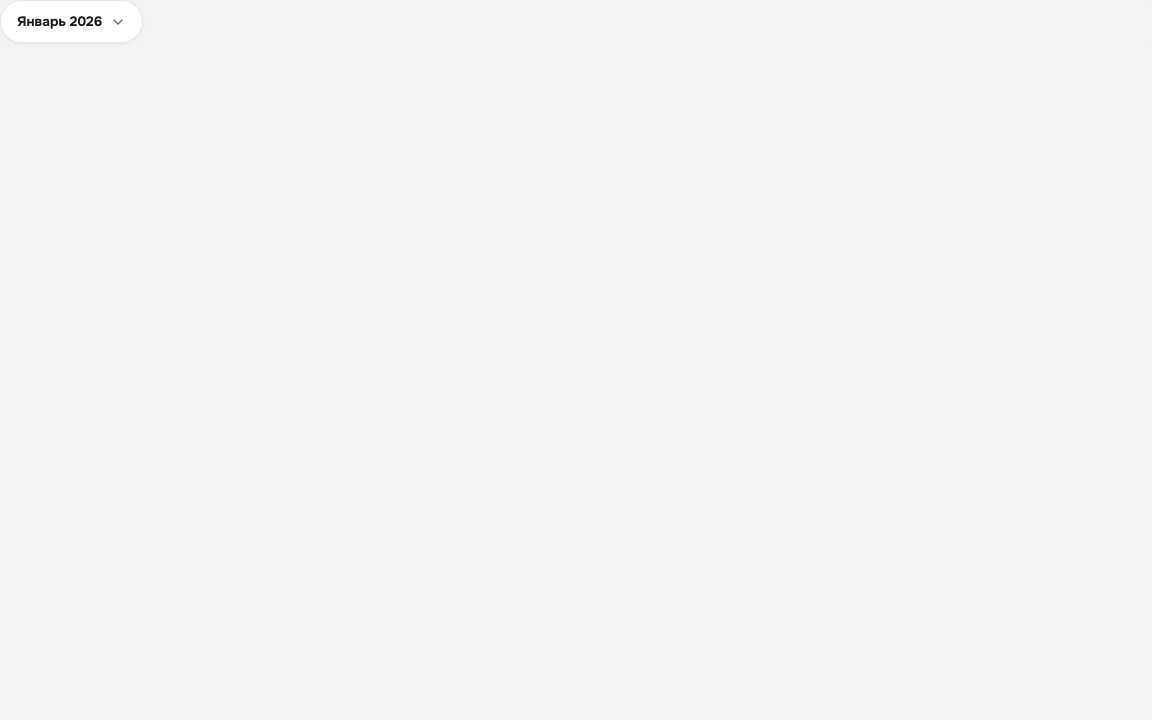
it: PeriodPicker chip trigger › reports the chosen month and returns focus to the trigger
Click the button with aria-label "Период:": click(72, 22) [0, 0, 143, 43]
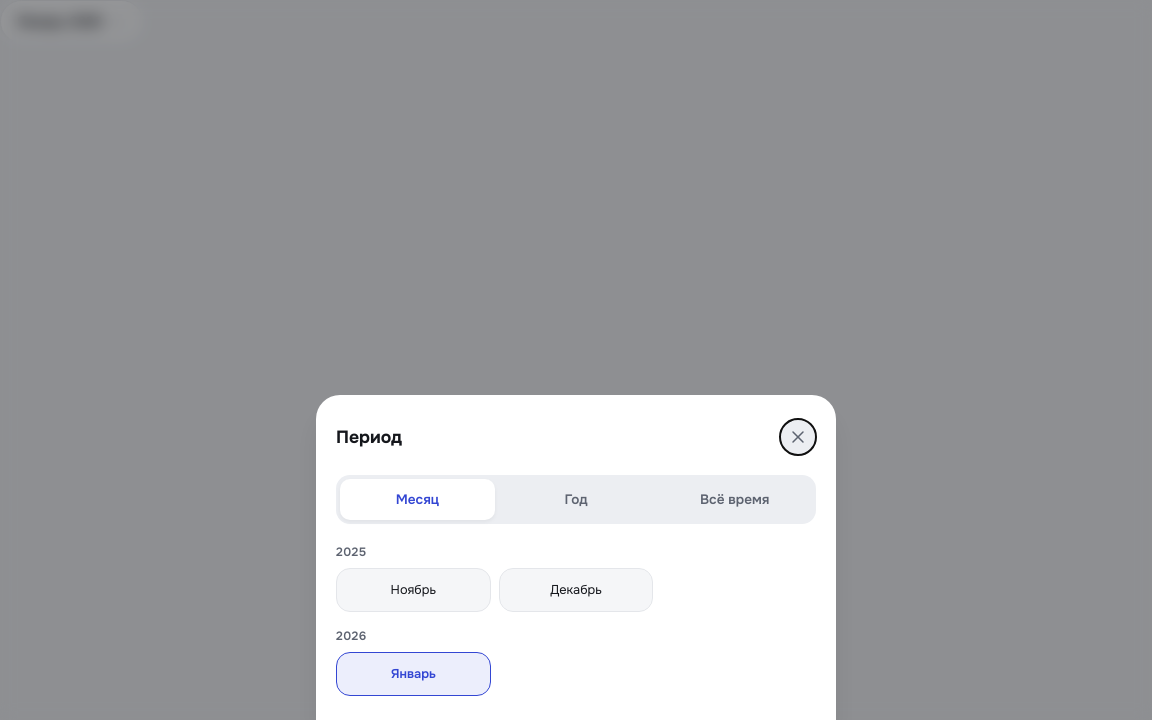
Click the button "Декабрь": click(576, 590) [499, 568, 653, 612]
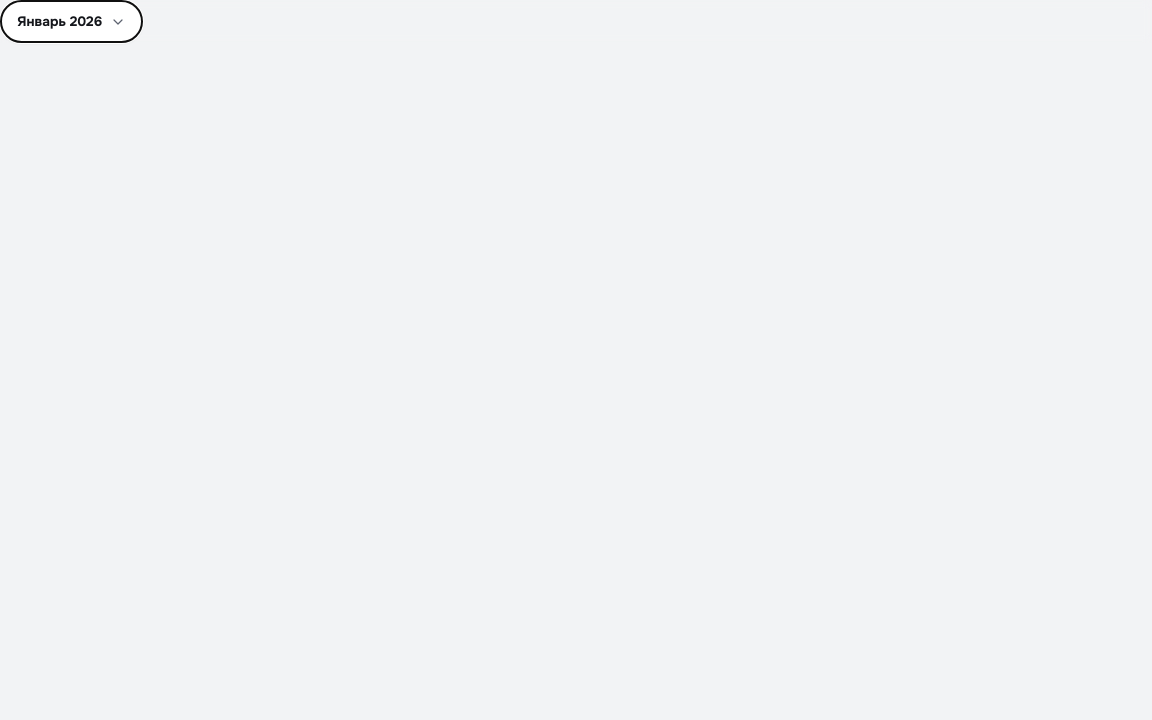
Check: the dialog is gone
